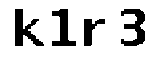1: (48, 7, 79, 51)
3: (118, 5, 148, 51)
k: (10, 7, 44, 50)
r: (82, 16, 109, 48)
